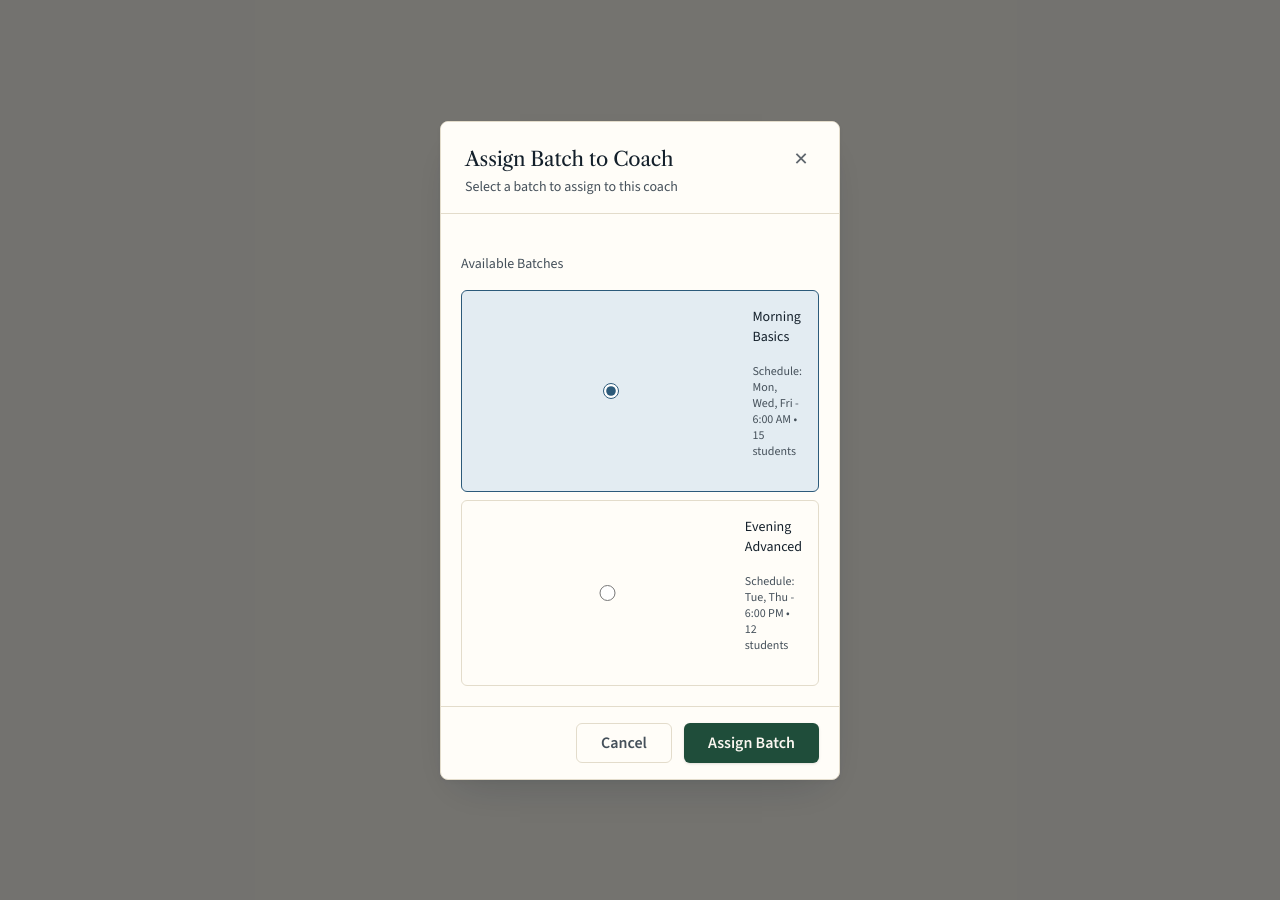
Test case: AddBatchModal › should disable assign button while assigning
Click the button "Assign Batch" at (751, 742), box [684,722,819,762]
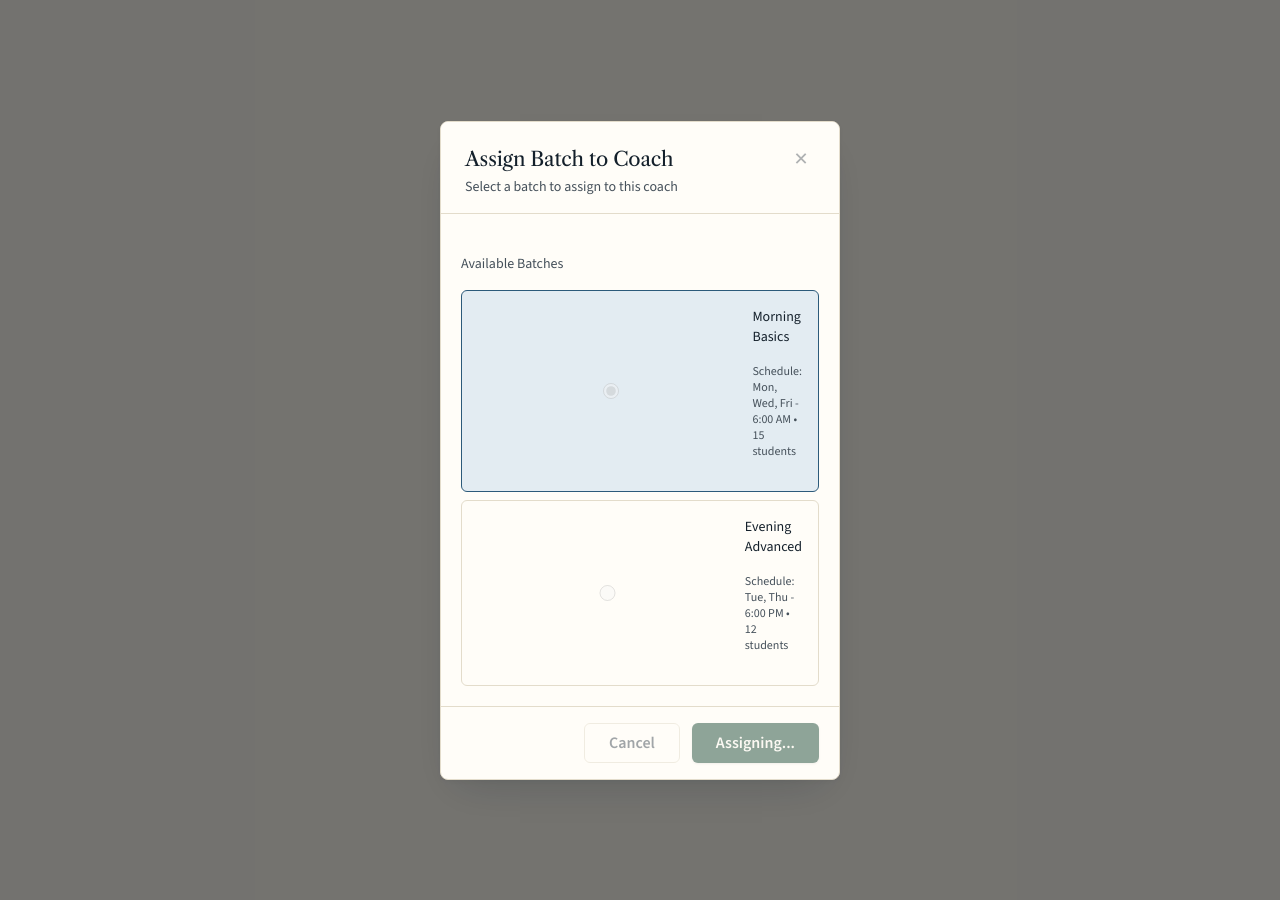
Now the button "Assign Batch" reads "Assigning...", box [692,722,819,762]
